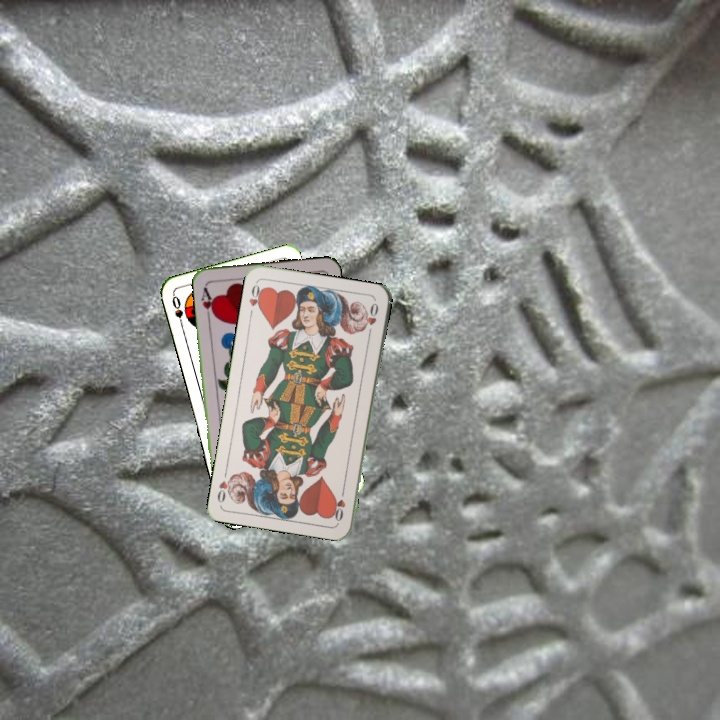HA: (197, 281, 218, 322)
HO: (245, 279, 266, 319), (331, 484, 348, 524)
SO: (168, 291, 186, 331)
